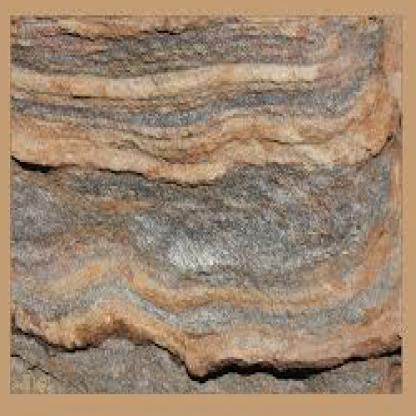Metamorphic_Quartize: (10, 15, 401, 394)
